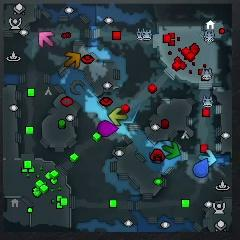p1: (193, 158, 209, 177)
p3: (97, 120, 118, 136)
x1: (39, 31, 55, 48)
x2: (109, 108, 127, 127)
x3: (199, 149, 217, 166)
x4: (162, 142, 181, 160)
x5: (65, 52, 81, 69)
